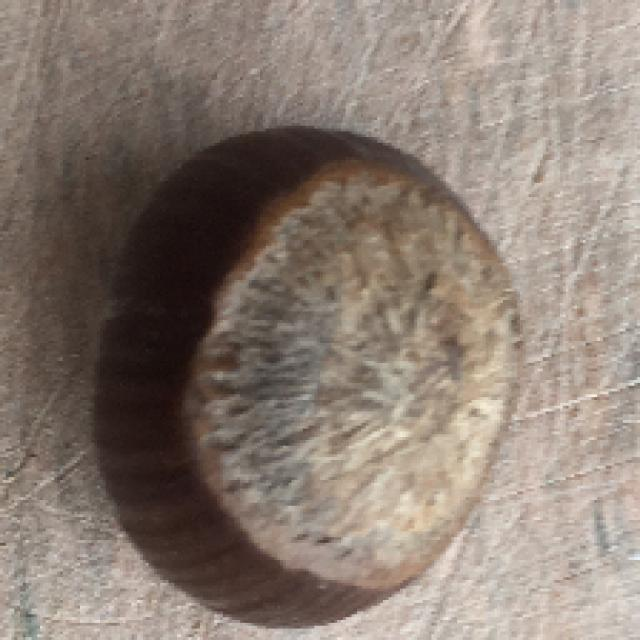DamagedHazelnut: (90, 133, 523, 637)
